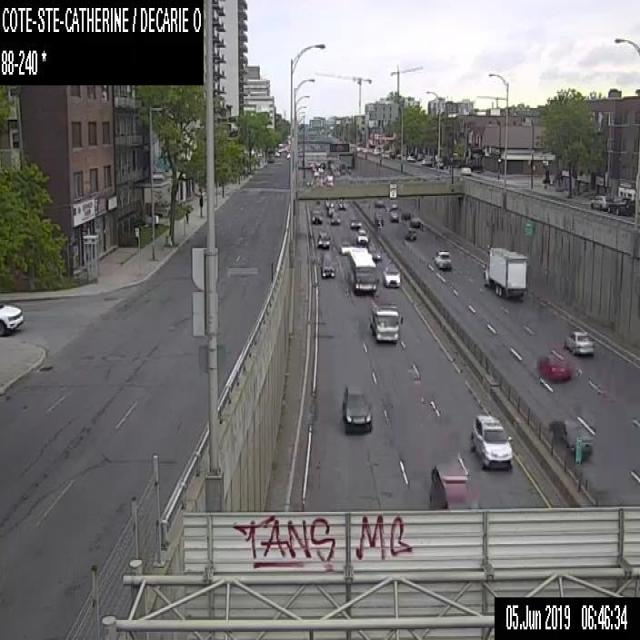bus: (348, 246, 376, 292)
vehicle: (470, 413, 513, 469), (482, 245, 526, 296), (550, 417, 594, 459), (428, 461, 467, 508), (343, 386, 371, 434), (370, 306, 402, 340), (0, 300, 24, 337), (539, 355, 570, 381), (564, 329, 593, 352), (607, 197, 631, 214), (434, 250, 451, 269), (383, 267, 400, 286), (590, 194, 610, 208), (316, 231, 331, 249), (321, 263, 334, 277), (311, 208, 322, 224), (356, 228, 368, 242), (404, 228, 416, 239), (330, 210, 340, 223), (409, 216, 421, 226), (349, 218, 361, 228), (340, 242, 349, 254), (458, 166, 470, 174), (400, 211, 410, 220), (372, 248, 380, 259), (326, 174, 333, 186), (421, 157, 431, 165), (391, 212, 398, 222), (374, 200, 384, 207), (326, 206, 334, 214), (406, 154, 415, 161), (267, 154, 274, 162), (389, 203, 397, 210), (436, 161, 443, 168), (339, 200, 345, 208), (372, 148, 379, 154), (274, 150, 280, 156), (286, 151, 290, 158)
